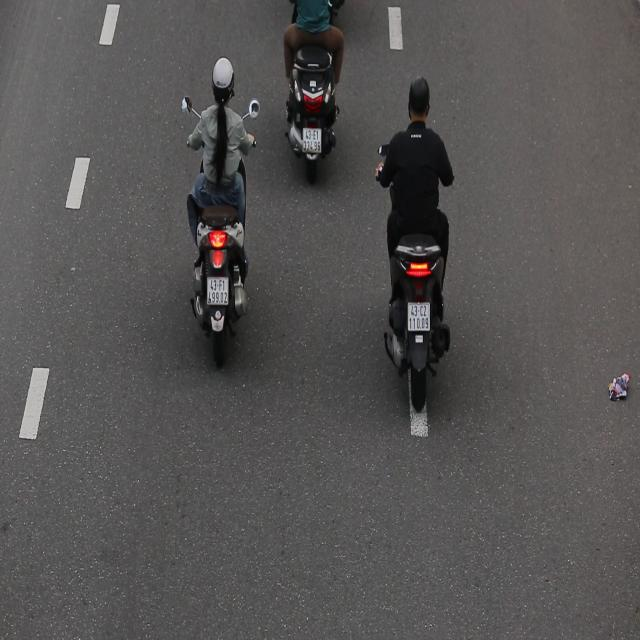motorbike: (369, 54, 470, 407), (180, 47, 272, 370)
